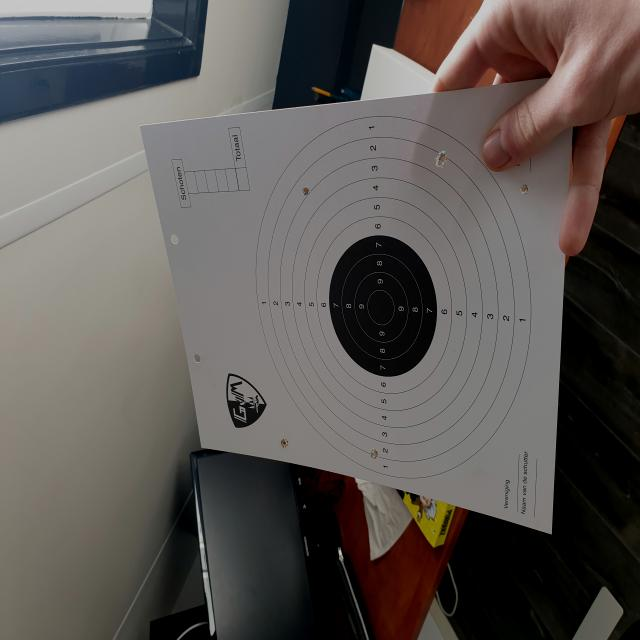0: (280, 436, 288, 450), (520, 184, 528, 195)
2: (370, 447, 378, 460), (439, 151, 449, 161), (434, 157, 444, 167), (302, 186, 309, 196)
Target: (255, 115, 531, 478)
black_contour: (329, 236, 437, 376)
